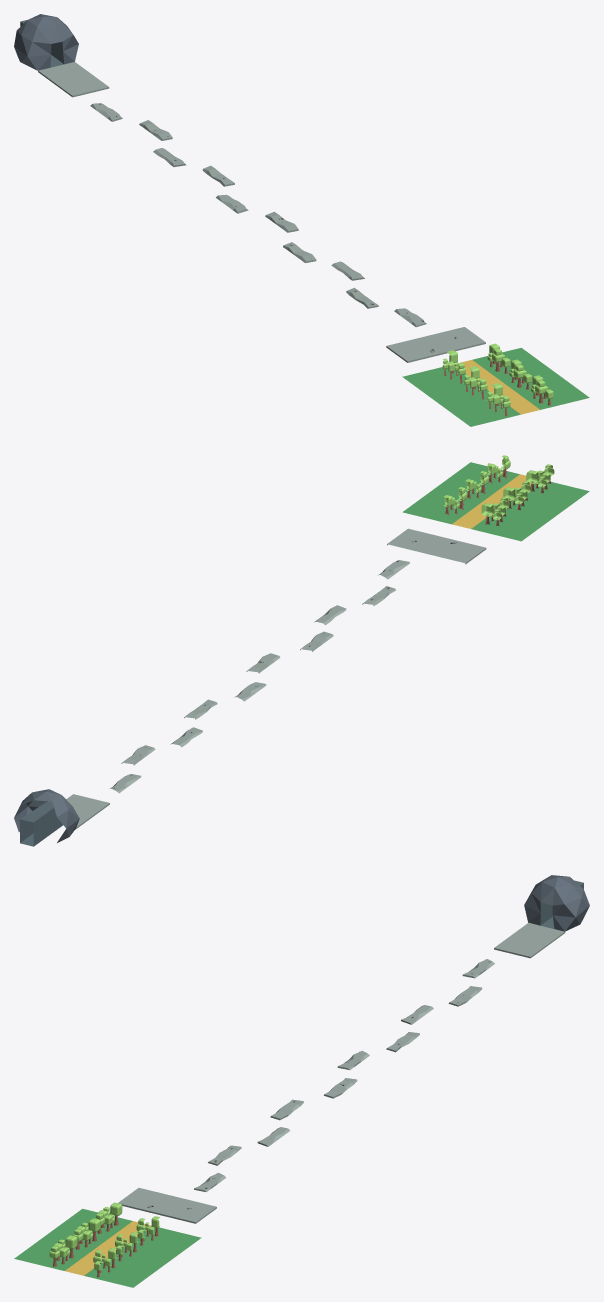
File: road3 1.fbx
3 renders of one model, top to bottom at view 1: azimuth 30°, elevation 25°; view 2: azimuth 150°, elevation 25°; view 3: azimuth 330°, elevation 25°, orthographic.
Visible parts, largest first — view 1: Plane.002, Вход в пещеру.001, Платформа 1.001, Деревья2.002, Начало платформы.003; view 2: Plane.002, Вход в пещеру.001, Платформа 1.001, Деревья2.002, Начало платформы.003; view 3: Plane.002, Вход в пещеру.001, Платформа 1.001, Деревья2.002, Начало платформы.003.
Part boxes in pixels (x1,y1,x2,y2): Plane.002: (402, 347, 589, 426); Вход в пещеру.001: (14, 14, 109, 97); Платформа 1.001: (90, 103, 426, 327); Деревья2.002: (442, 343, 553, 416); Начало платформы.003: (386, 327, 485, 362); Plane.002: (402, 462, 589, 541); Вход в пещеру.001: (14, 789, 109, 846); Платформа 1.001: (110, 560, 409, 793); Деревья2.002: (444, 455, 554, 525); Начало платформы.003: (387, 528, 486, 564); Plane.002: (14, 1208, 201, 1287); Вход в пещеру.001: (494, 875, 589, 958); Платформа 1.001: (194, 959, 494, 1192); Деревья2.002: (49, 1202, 159, 1277); Начало платформы.003: (118, 1188, 216, 1223).
Bounding box in the file's own units: 34218 × 11700 × 250010.
